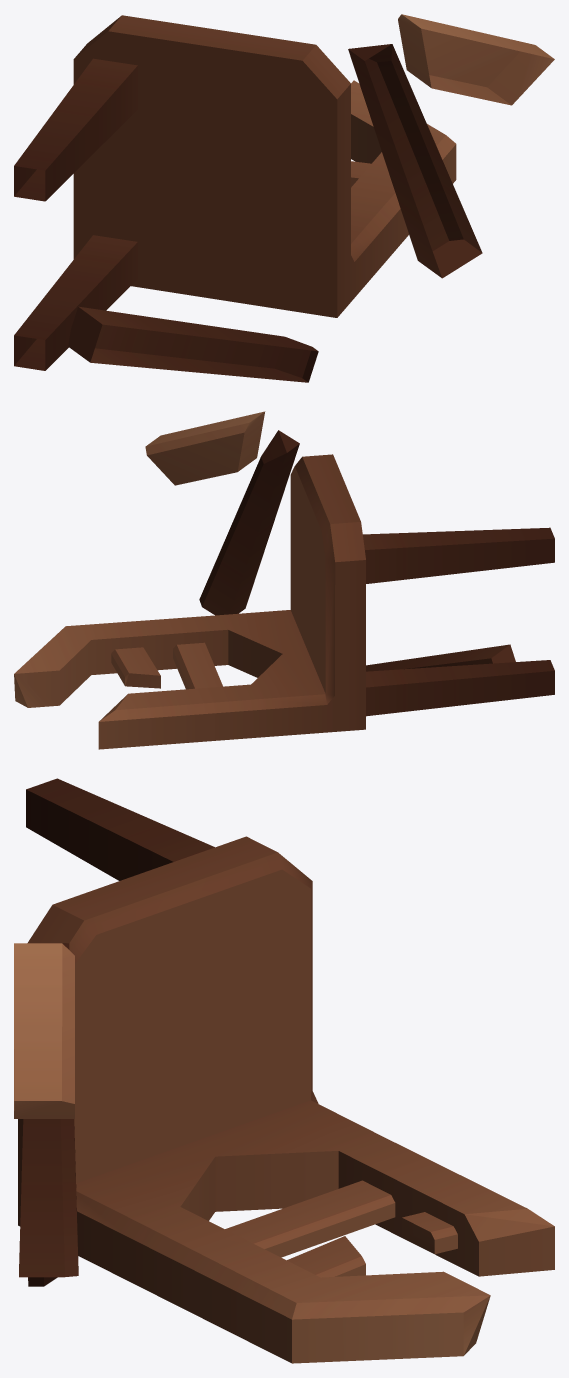
Rendered from Chair 02.FBX.
3 renders of one model, top to bottom at view 1: azimuth 30°, elevation 25°; view 2: azimuth 150°, elevation 25°; view 3: azimuth 270°, elevation 25°, orthographic. The views are drawn at different scales.
Visible parts, largest first — view 1: Chair 02; view 2: Chair 02; view 3: Chair 02.
Boxes of the visible parts, x1=… form: Chair 02: x1=14, y1=14, x2=554, y2=382; Chair 02: x1=14, y1=411, x2=554, y2=749; Chair 02: x1=14, y1=778, x2=554, y2=1363.
Size of the model in its own units: 95.91 by 56.63 by 68.21.
